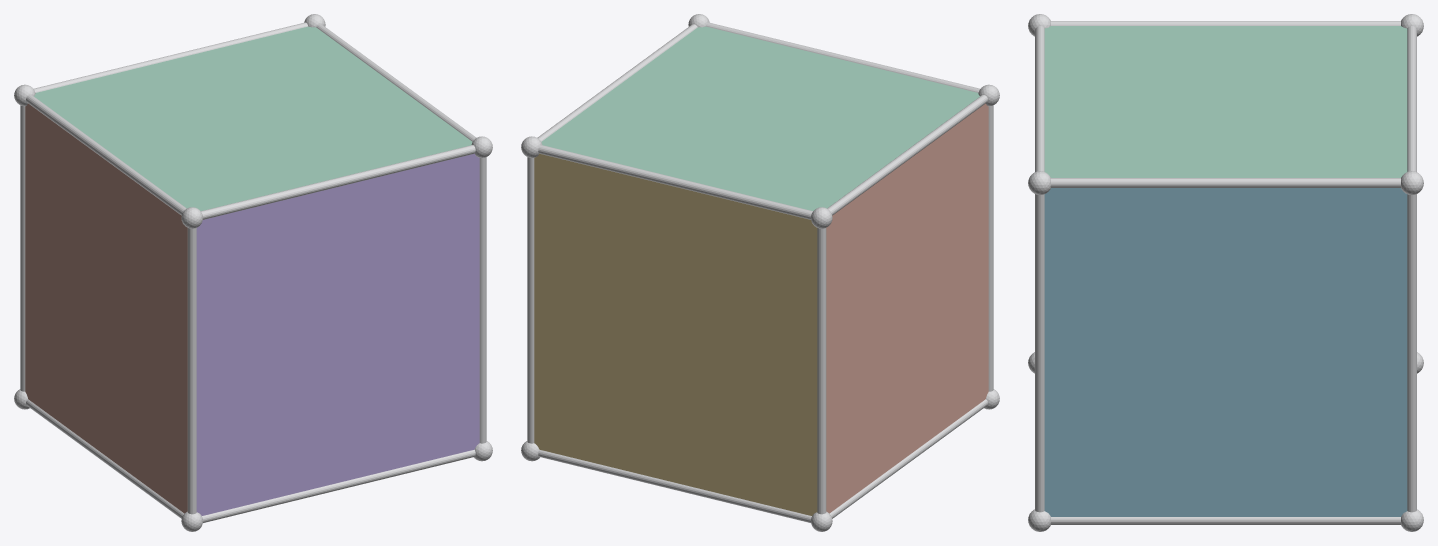
The model's file is kubus_materi_lavender.glb.
3 renders of one model, left to right at view 1: azimuth 30°, elevation 25°; view 2: azimuth 150°, elevation 25°; view 3: azimuth 270°, elevation 25°, orthographic. The views are drawn at different scales.
Parts seen in each view (by area): view 1: Sisi_Atas, Sisi_Kiri, Sisi_Belakang, Rusuk_06, Rusuk_04, Rusuk_08, Rusuk_02, Rusuk_10, Rusuk_05, Rusuk_03, Rusuk_09, Rusuk_12; view 2: Sisi_Bawah, Sisi_Kiri, Sisi_Belakang, Rusuk_05, Rusuk_03, Rusuk_07, Rusuk_01, Rusuk_10, Rusuk_06, Rusuk_04, Rusuk_09, Rusuk_12; view 3: Sisi_Kanan, Sisi_Belakang, Rusuk_12, Rusuk_07, Rusuk_08, Rusuk_11, Rusuk_10, Rusuk_03, Rusuk_04.
Part boxes in pixels (bbox=[...]): Sisi_Atas: bbox=[196, 153, 479, 515]; Sisi_Kiri: bbox=[25, 103, 187, 513]; Sisi_Belakang: bbox=[34, 26, 472, 210]; Rusuk_06: bbox=[187, 228, 196, 514]; Rusuk_04: bbox=[201, 145, 475, 219]; Rusuk_08: bbox=[479, 157, 486, 443]; Rusuk_02: bbox=[202, 449, 475, 522]; Rusuk_10: bbox=[26, 95, 186, 215]; Rusuk_05: bbox=[20, 105, 25, 391]; Rusuk_03: bbox=[33, 22, 308, 92]; Rusuk_09: bbox=[26, 399, 184, 518]; Rusuk_12: bbox=[316, 24, 476, 141]; Sisi_Bawah: bbox=[534, 153, 817, 515]; Sisi_Kiri: bbox=[826, 103, 988, 513]; Sisi_Belakang: bbox=[541, 26, 979, 210]; Rusuk_05: bbox=[817, 228, 826, 514]; Rusuk_03: bbox=[538, 145, 812, 219]; Rusuk_07: bbox=[527, 157, 534, 443]; Rusuk_01: bbox=[538, 449, 811, 522]; Rusuk_10: bbox=[827, 95, 987, 215]; Rusuk_06: bbox=[988, 105, 993, 391]; Rusuk_04: bbox=[705, 22, 980, 92]; Rusuk_09: bbox=[829, 399, 987, 518]; Rusuk_12: bbox=[537, 24, 697, 141]; Sisi_Kanan: bbox=[1044, 188, 1407, 516]; Sisi_Belakang: bbox=[1044, 26, 1407, 177]; Rusuk_12: bbox=[1051, 178, 1400, 187]; Rusuk_07: bbox=[1407, 194, 1416, 512]; Rusuk_08: bbox=[1035, 194, 1044, 512]; Rusuk_11: bbox=[1051, 517, 1400, 524]; Rusuk_10: bbox=[1051, 21, 1400, 25]; Rusuk_03: bbox=[1407, 26, 1416, 171]; Rusuk_04: bbox=[1035, 26, 1044, 171].
Size of the model in its own units: 2.13 by 2.13 by 2.13.
